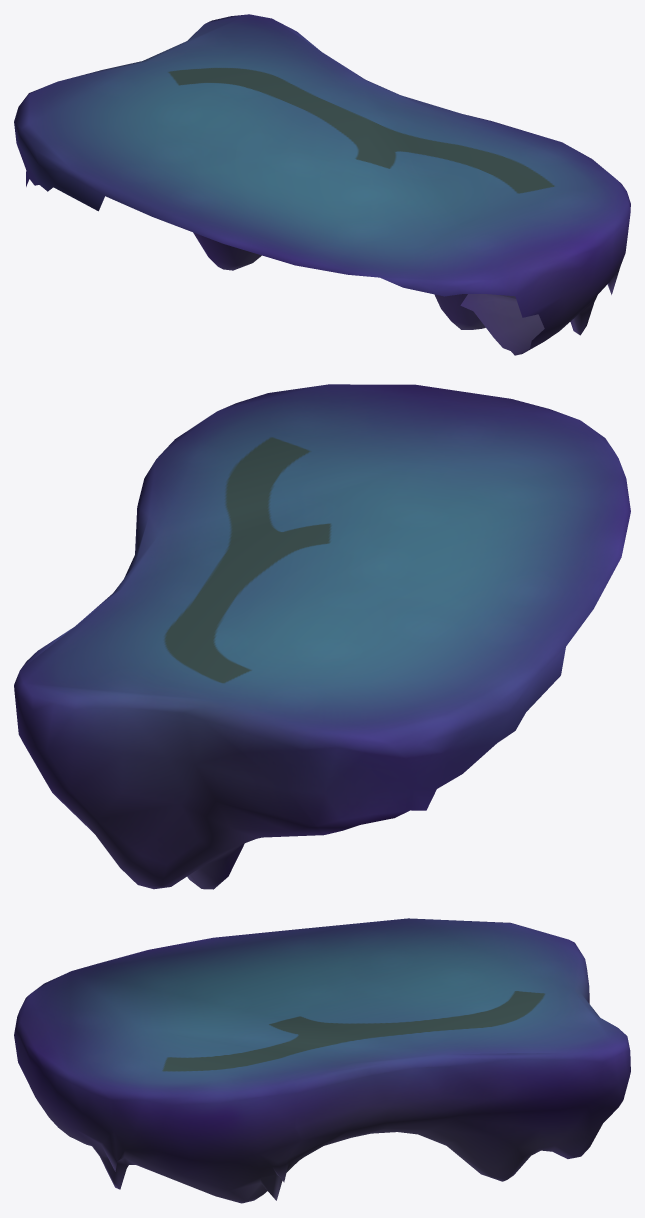
File: island_mining.fbx
The picture shows the model from 3 angles, top to bottom: view 1: azimuth 30°, elevation 25°; view 2: azimuth 150°, elevation 25°; view 3: azimuth 270°, elevation 25°; orthographic projection. The views are drawn at different scales.
Visible parts, largest first — view 1: island_mining; view 2: island_mining; view 3: island_mining.
Part boxes in pixels (x1,y1,x2,y2): island_mining: (14,14,630,355); island_mining: (14,384,630,889); island_mining: (14,918,630,1203).
Size of the model in its own units: 2165 by 945 by 3114.
Materials: 1 (1 with a texture image).
